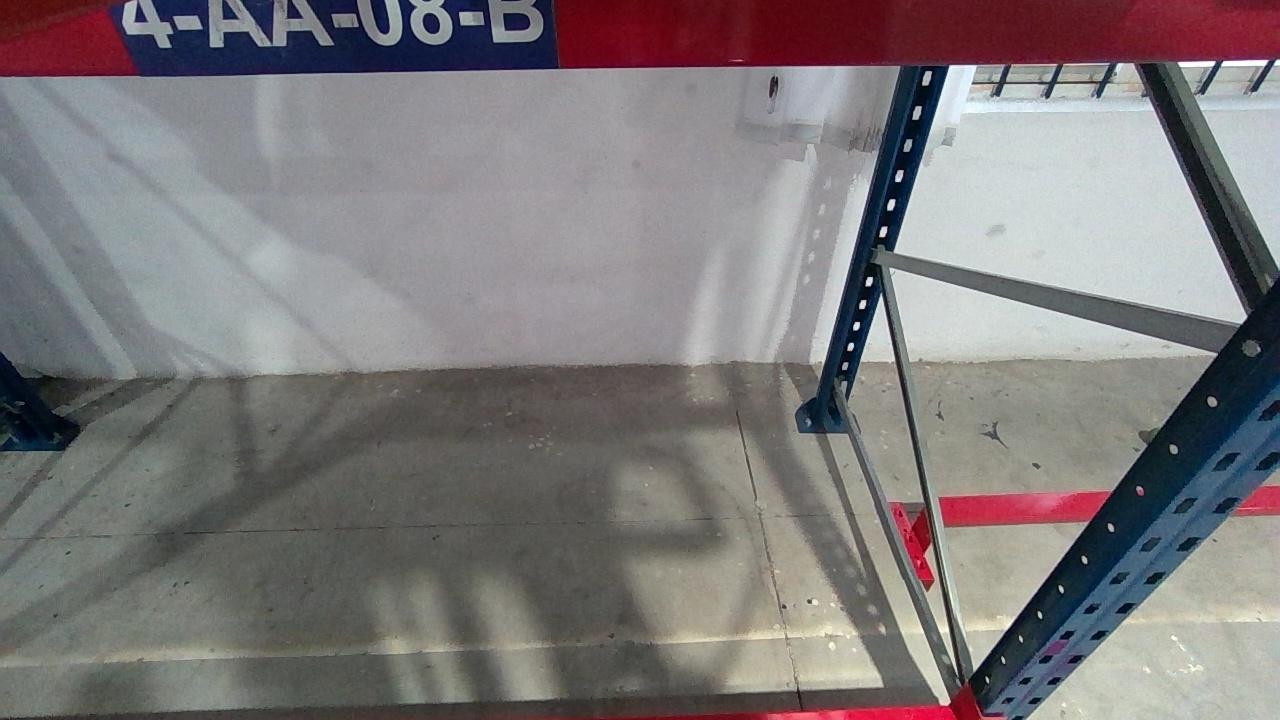h_rack: (0, 0, 1280, 76)
